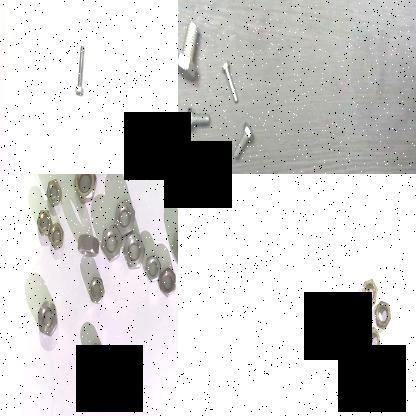Bolts: (178, 17, 199, 85), (228, 119, 254, 161), (70, 40, 88, 100), (218, 56, 239, 106), (182, 104, 212, 136)
NUTS: (112, 194, 136, 236), (120, 232, 146, 270), (36, 298, 58, 342), (70, 174, 97, 207), (98, 226, 122, 262), (71, 231, 101, 257), (158, 262, 178, 300), (42, 176, 62, 210), (144, 248, 161, 288), (360, 275, 378, 311), (164, 226, 178, 269), (371, 299, 391, 329), (87, 340, 105, 373), (363, 326, 381, 358), (343, 326, 361, 358), (86, 274, 105, 304), (34, 207, 52, 237), (345, 292, 361, 324), (47, 218, 64, 248)
